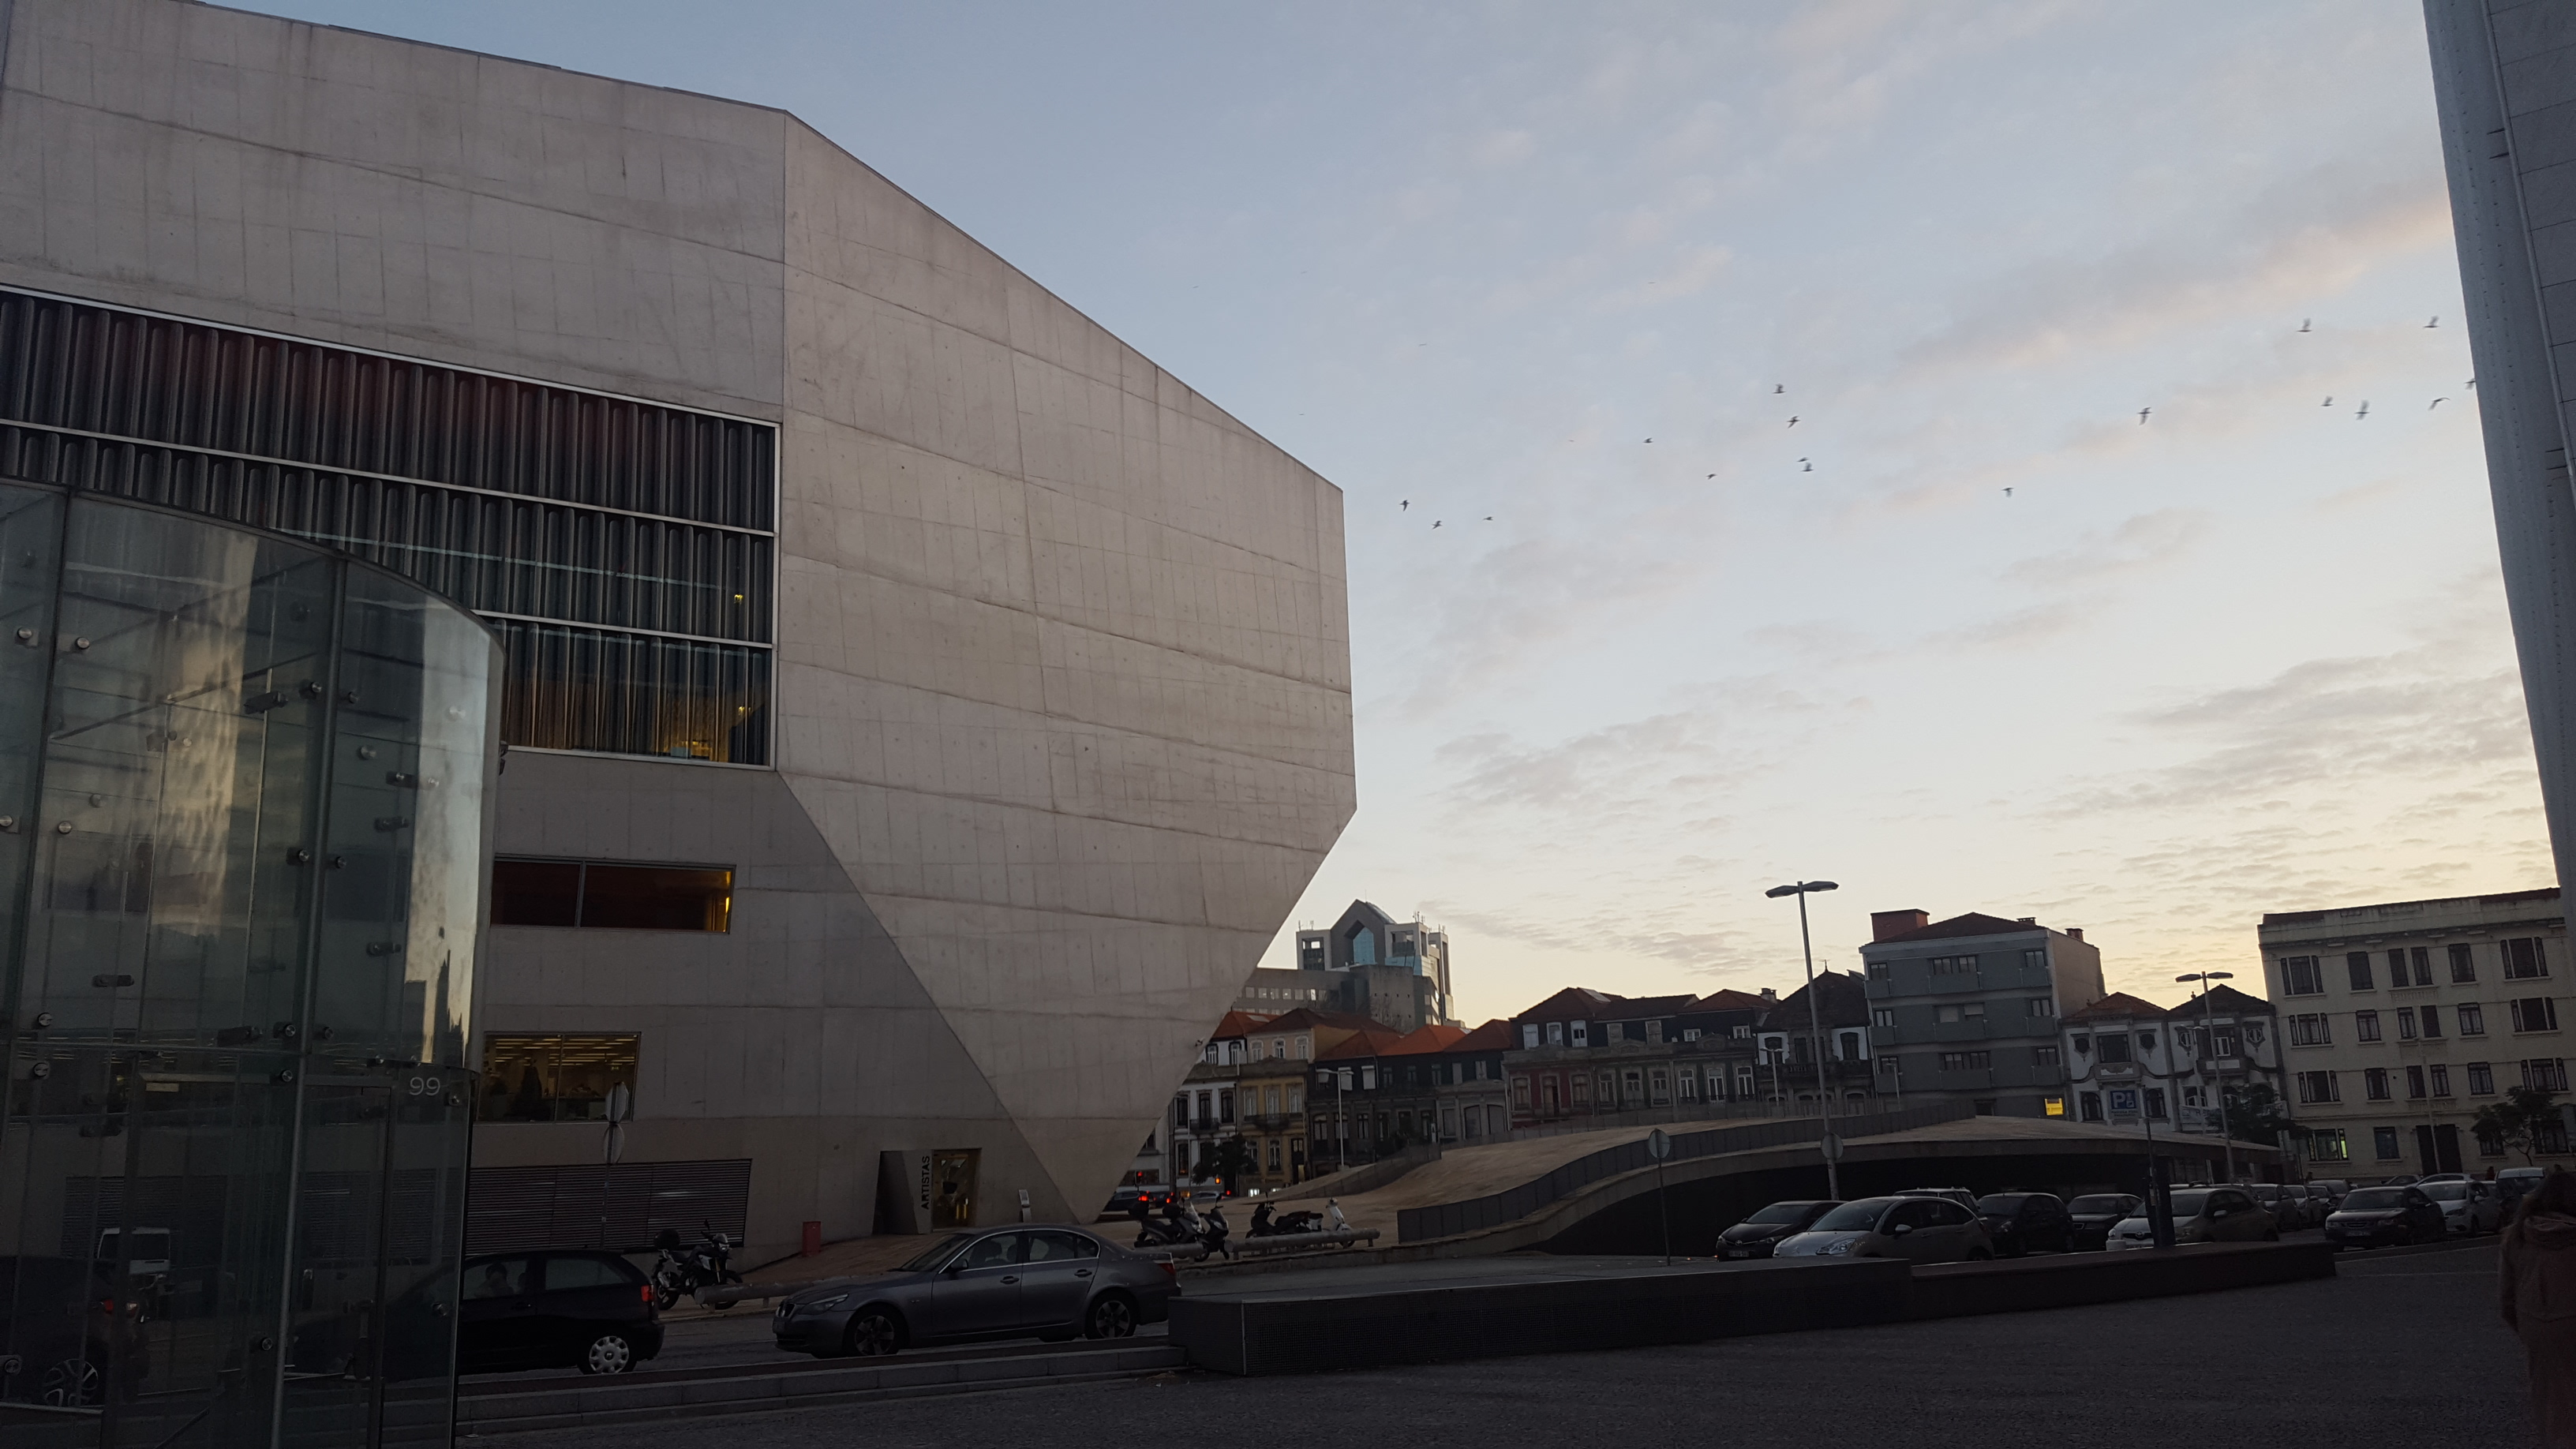musica: (0, 0, 1302, 1171)
